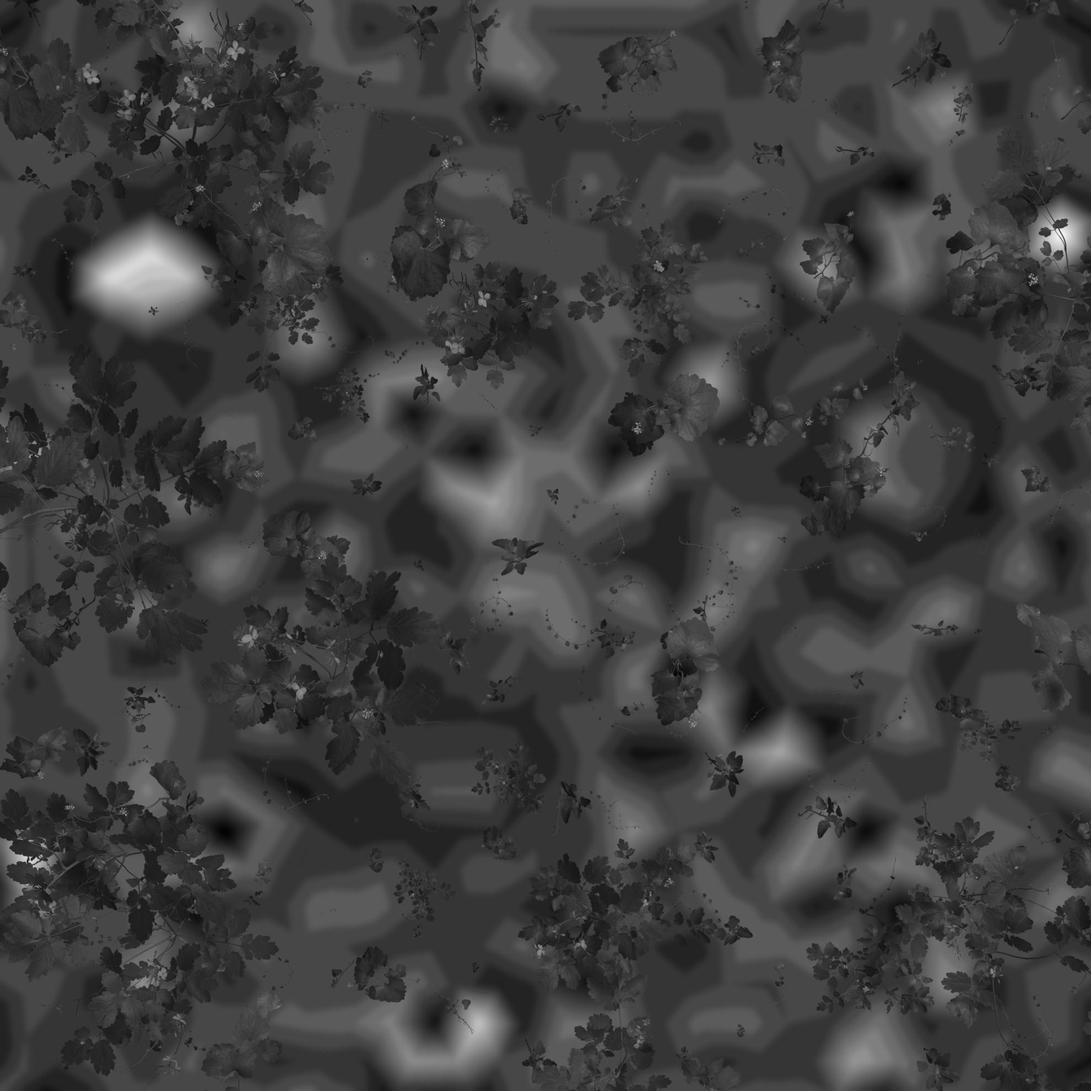landmine: (767, 329, 1003, 564), (20, 184, 252, 372), (336, 674, 550, 867)
